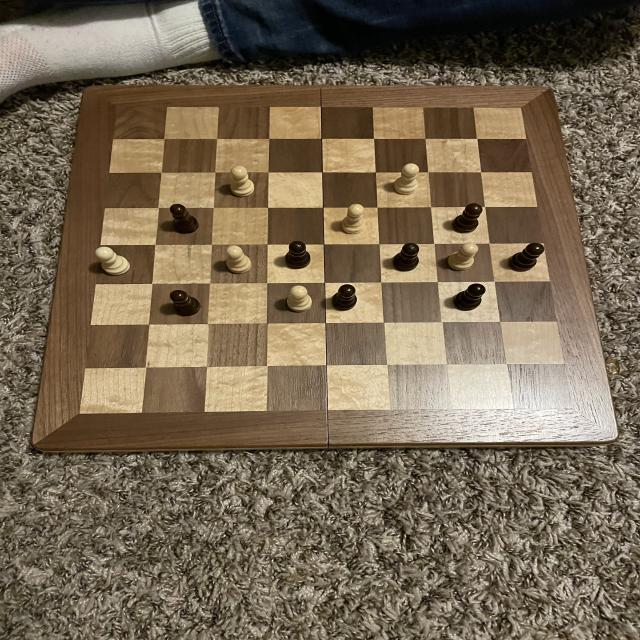black-knight: (502, 240, 546, 276), (448, 201, 485, 237), (168, 202, 204, 237), (450, 282, 488, 314), (388, 242, 424, 274), (280, 238, 312, 272), (170, 287, 205, 318), (328, 282, 361, 313)
white-knight: (91, 243, 133, 278), (441, 240, 481, 276), (220, 243, 257, 277), (338, 202, 372, 239), (390, 162, 422, 198), (282, 283, 317, 315), (228, 165, 258, 200)
